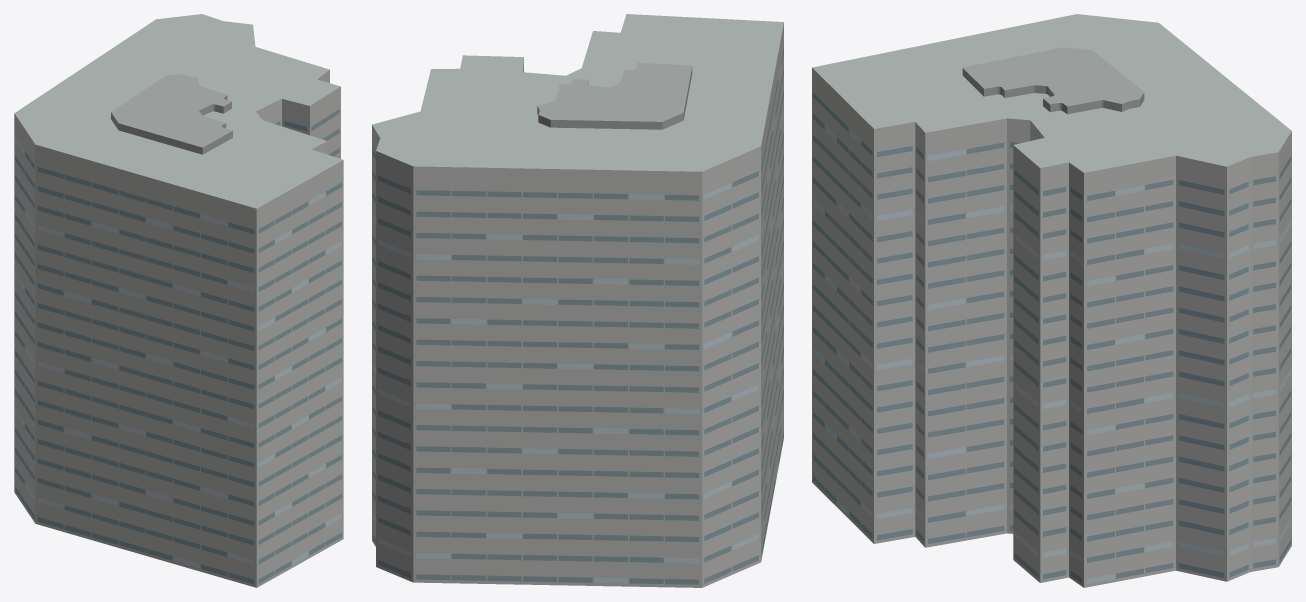
Rendered from apt-a13872503.glb.
3 renders of one model, left to right at view 1: azimuth 30°, elevation 25°; view 2: azimuth 150°, elevation 25°; view 3: azimuth 270°, elevation 25°, orthographic. The views are drawn at different scales.
Visible parts, largest first — view 1: apt-a13872503; view 2: apt-a13872503; view 3: apt-a13872503.
Part boxes in pixels (x1=…): apt-a13872503: x1=14, y1=14, x2=343, y2=587; apt-a13872503: x1=372, y1=14, x2=783, y2=587; apt-a13872503: x1=812, y1=14, x2=1291, y2=587.
Bounding box in the file's own units: 105 × 130 × 134.
